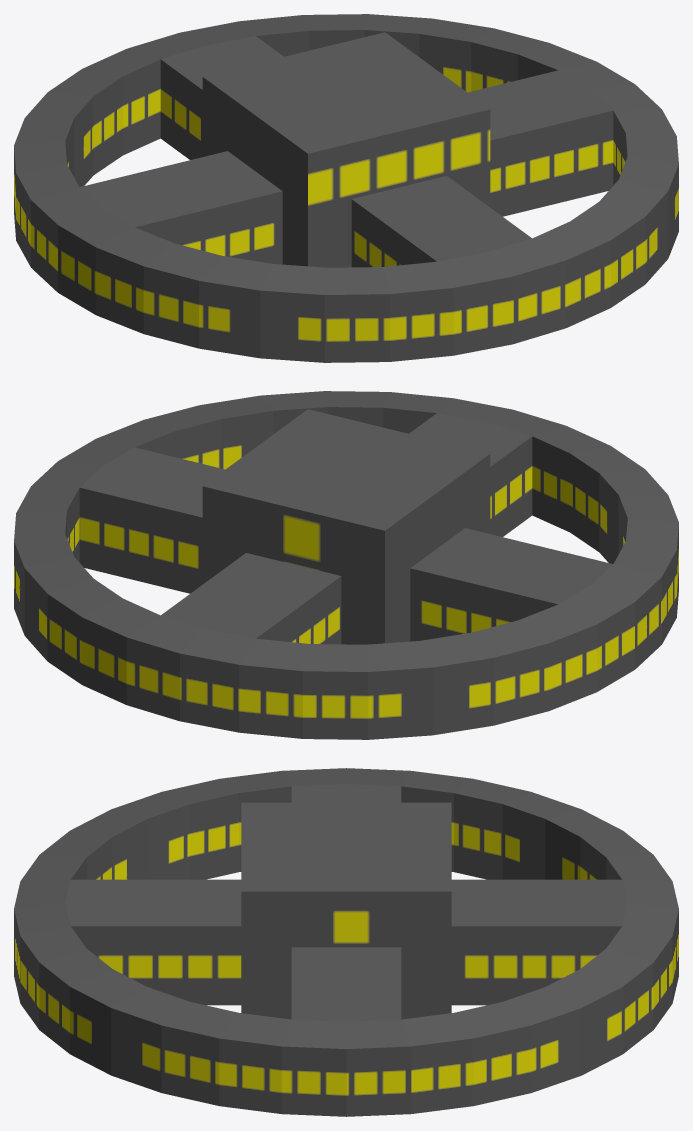
Rendered from space_station.glb.
The picture shows the model from 3 angles, top to bottom: view 1: azimuth 30°, elevation 25°; view 2: azimuth 150°, elevation 25°; view 3: azimuth 270°, elevation 25°; orthographic projection.
Visible parts, largest first — view 1: Cylinder, Cube; view 2: Cylinder, Cube; view 3: Cylinder, Cube.
Boxes of the visible parts, x1,y1,x2,y2 form: Cylinder: (14, 14, 678, 362); Cube: (202, 32, 490, 267); Cylinder: (14, 391, 678, 739); Cube: (202, 409, 490, 644); Cylinder: (14, 768, 678, 1116); Cube: (241, 802, 451, 1019).
Size of the model in its own units: 2.36 by 0.7476 by 2.36.
Materials: 1 (1 with a texture image).
